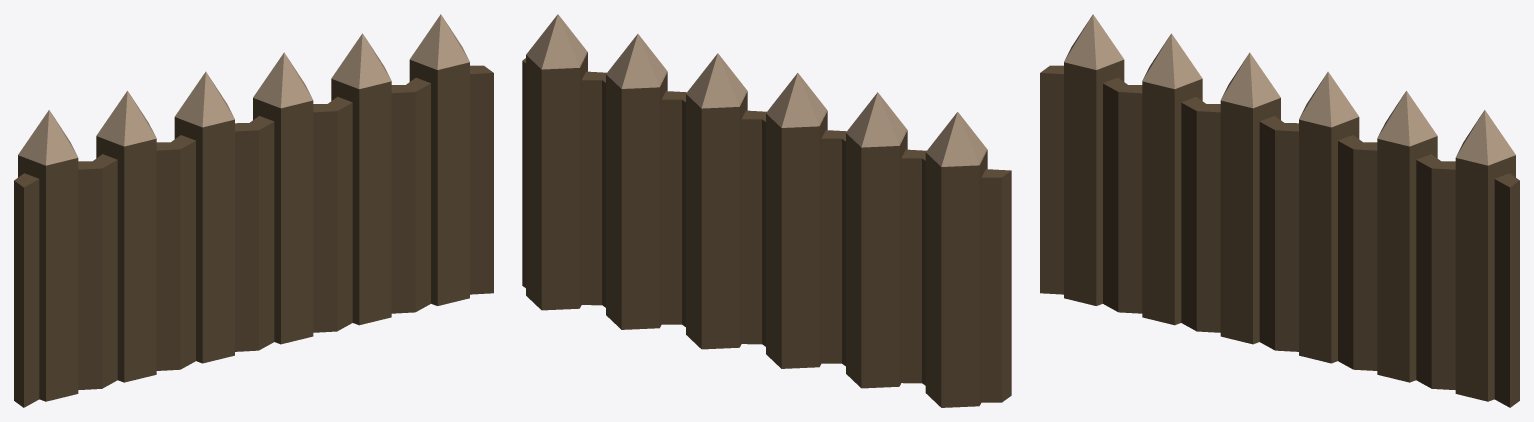
The model's file is piked_fence.fbx.
The picture shows the model from 3 angles, left to right: view 1: azimuth 30°, elevation 25°; view 2: azimuth 150°, elevation 25°; view 3: azimuth 330°, elevation 25°; orthographic projection. The views are drawn at different scales.
Parts seen in each view (by area): view 1: Cylinder.003; view 2: Cylinder.003; view 3: Cylinder.003.
Part boxes in pixels (x1,y1,x2,y2): Cylinder.003: (14, 14, 493, 407); Cylinder.003: (522, 14, 1011, 407); Cylinder.003: (1040, 14, 1519, 407).
Size of the model in its own units: 600 by 340 by 65.88.
Materials: 6 (6 with a texture image).
